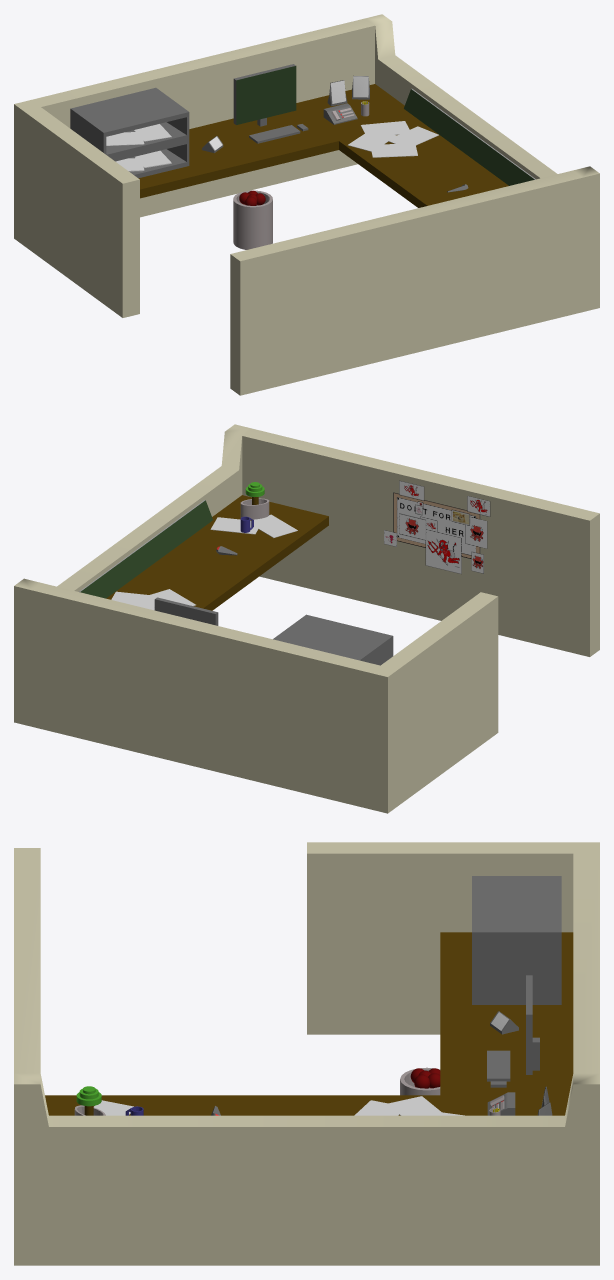
Rendered from Office SetUp 2.fbx.
3 renders of one model, top to bottom at view 1: azimuth 30°, elevation 25°; view 2: azimuth 150°, elevation 25°; view 3: azimuth 270°, elevation 25°, orthographic. The views are drawn at different scales.
Parts seen in each view (by area): view 1: Cubicle, Desk, FileCabnet1, Monitor, SoulCounter, Bin5, FileCabnet, Paper4, Paper2, Paper1, Paper3, Phone (+1 smaller); view 2: Cubicle, Desk, Picture1, FileCabnet1, SoulCounter, Monitor, Paper5, Tree, Paper2; view 3: Cubicle, Desk, FileCabnet1, FileCabnet, Monitor, Keybord, Paper4, Bin5, Paper3.
Part boxes in pixels (x1,y1,x2,y2): Cubicle: [14, 14, 599, 395]; Desk: [138, 84, 508, 207]; FileCabnet1: [70, 87, 189, 157]; Monitor: [233, 64, 296, 126]; SoulCounter: [404, 88, 535, 185]; Bin5: [233, 190, 272, 249]; FileCabnet: [111, 139, 189, 178]; Paper4: [347, 129, 396, 151]; Paper2: [387, 126, 438, 148]; Paper1: [360, 121, 410, 136]; Paper3: [370, 144, 417, 157]; Phone: [323, 103, 357, 124]; Cubicle: [14, 424, 599, 813]; Desk: [106, 495, 328, 610]; Picture1: [384, 480, 490, 574]; FileCabnet1: [273, 614, 393, 665]; SoulCounter: [79, 500, 212, 598]; Monitor: [154, 597, 218, 625]; Paper5: [250, 514, 297, 537]; Tree: [240, 498, 269, 519]; Paper2: [111, 591, 160, 607]; Cubicle: [14, 842, 599, 1265]; Desk: [45, 932, 573, 1115]; FileCabnet1: [472, 876, 561, 968]; FileCabnet: [472, 968, 561, 1004]; Monitor: [526, 975, 539, 1074]; Keybord: [487, 1050, 510, 1081]; Paper4: [388, 1096, 441, 1115]; Bin5: [400, 1067, 440, 1095]; Paper3: [354, 1100, 406, 1115].
Size of the model in its own units: 4.3 by 1.53 by 4.4.
13 materials, 1 textured.
